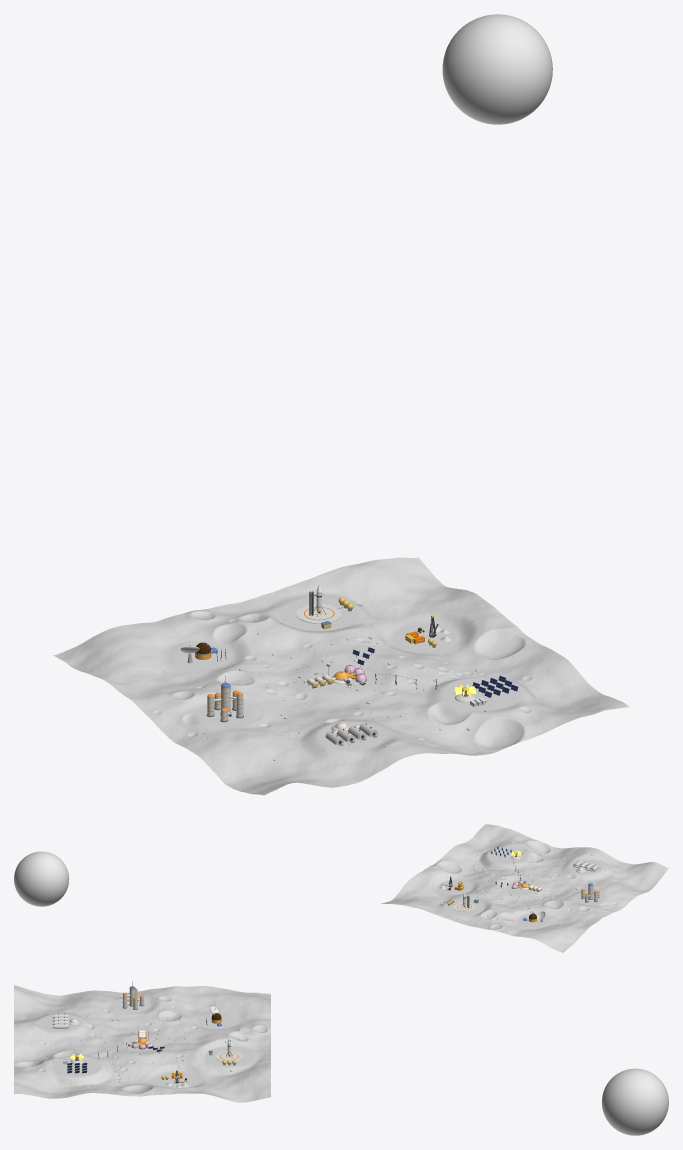
The picture shows the model from 3 angles, top to bottom: view 1: azimuth 30°, elevation 25°; view 2: azimuth 150°, elevation 25°; view 3: azimuth 270°, elevation 25°; orthographic projection. The views are drawn at different scales.
Parts seen in each view (by area): view 1: Lunar_Surface, Earth; view 2: Lunar_Surface, Earth; view 3: Lunar_Surface, Earth.
Boxes of the visible parts, x1=… form: Lunar_Surface: x1=53, y1=557, x2=629, y2=795; Earth: x1=442, y1=14, x2=552, y2=124; Lunar_Surface: x1=381, y1=824, x2=668, y2=952; Earth: x1=14, y1=851, x2=69, y2=906; Lunar_Surface: x1=14, y1=985, x2=270, y2=1102; Earth: x1=601, y1=1068, x2=668, y2=1135.
Bounding box in the file's own units: 56310 × 16211 × 66288.
